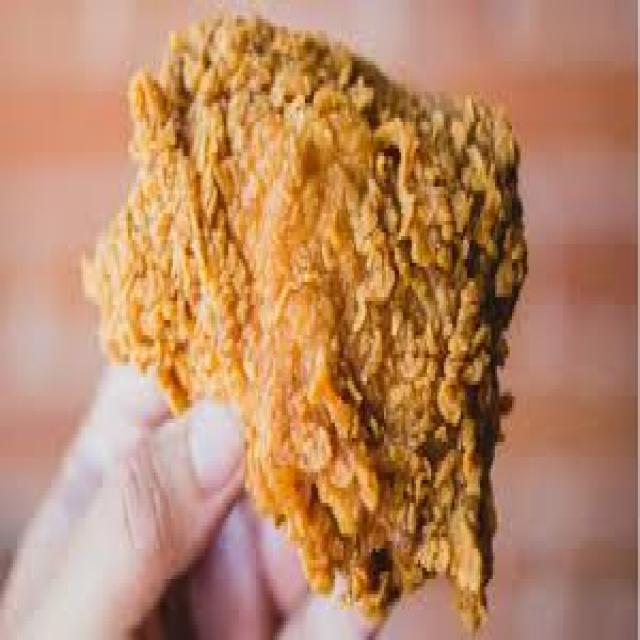Frango: (77, 0, 531, 640)
